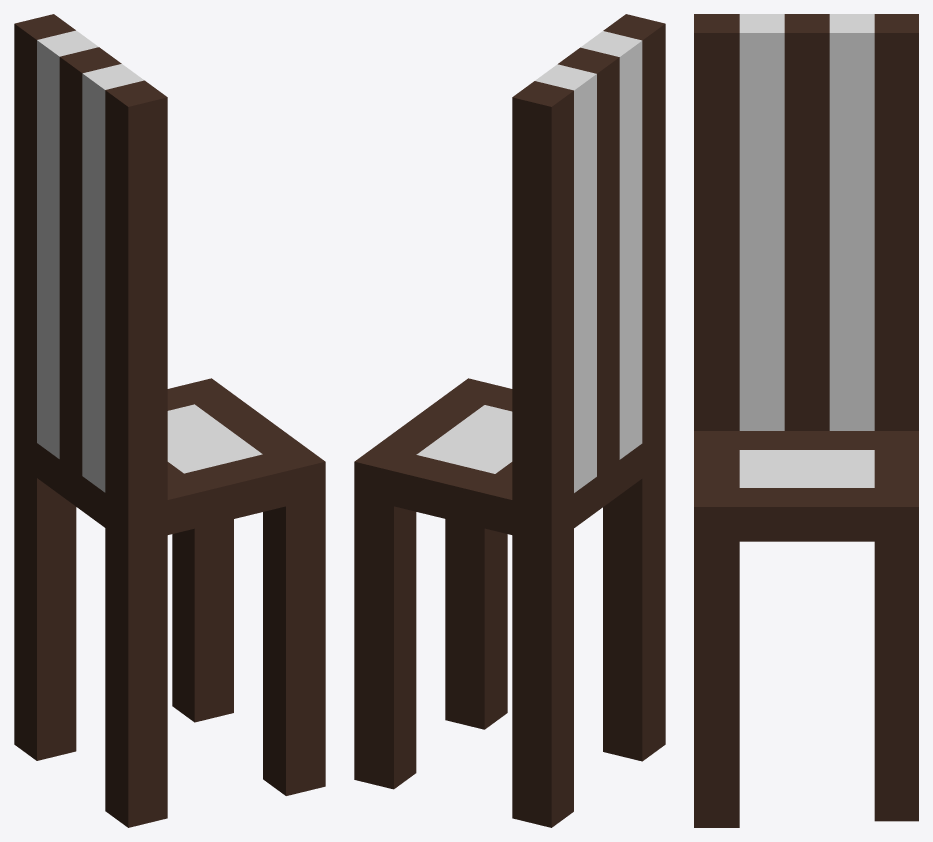
The model's file is silla.fbx.
3 views of the same model, side by side, from view 1: azimuth 30°, elevation 25°; view 2: azimuth 150°, elevation 25°; view 3: azimuth 270°, elevation 25° (orthographic).
Parts seen in each view (by area): view 1: Cube; view 2: Cube; view 3: Cube.
Boxes of the visible parts, x1,y1,x2,y2 form: Cube: (14,14,325,827); Cube: (354,14,665,827); Cube: (694,14,918,827).
Size of the model in its own units: 200 by 705 by 200.
